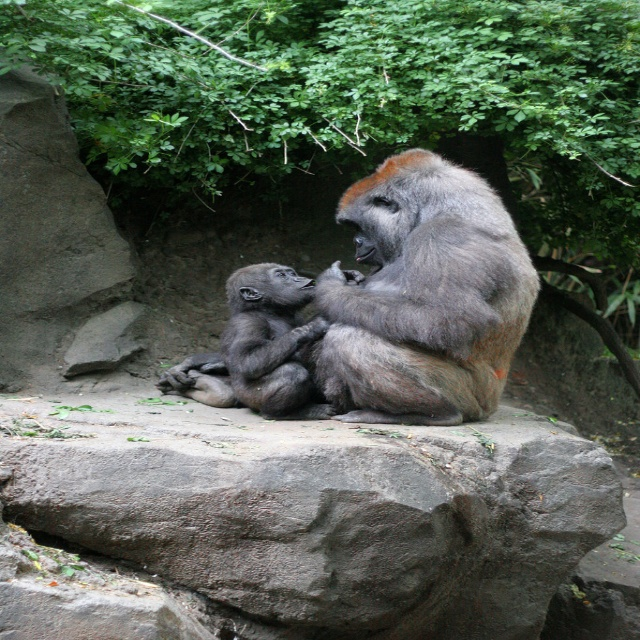Monkey: (160, 147, 542, 430)
